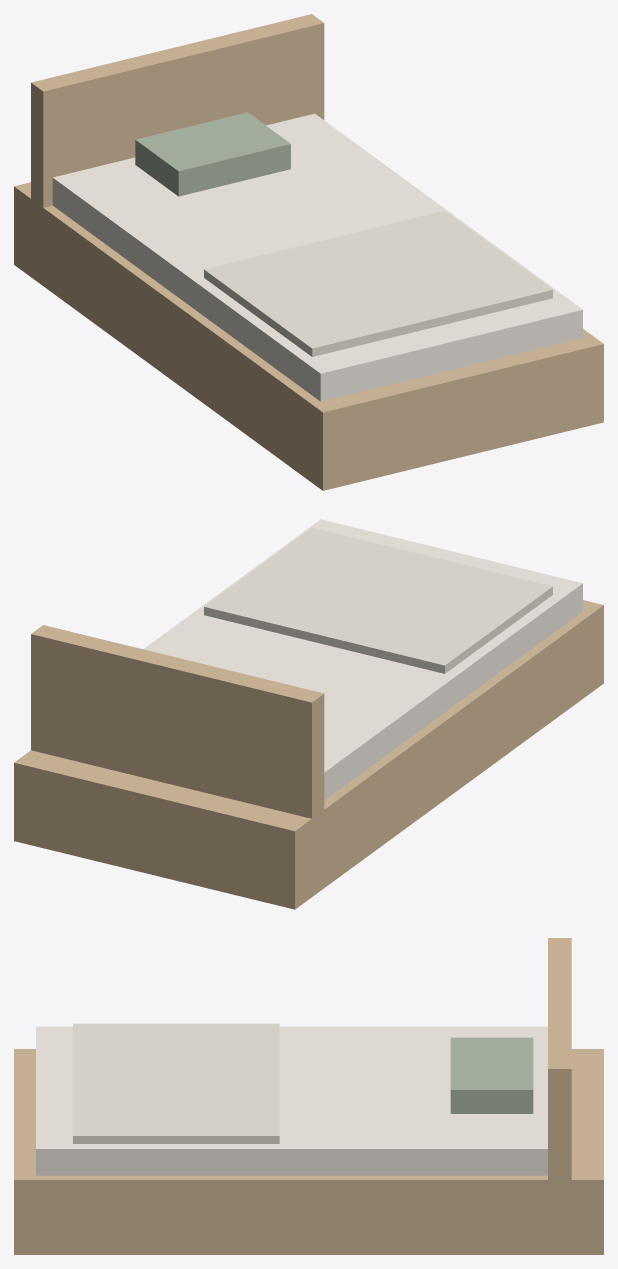
The model's file is bed.glb.
3 renders of one model, top to bottom at view 1: azimuth 30°, elevation 25°; view 2: azimuth 150°, elevation 25°; view 3: azimuth 270°, elevation 25°, orthographic. The views are drawn at different scales.
Visible parts, largest first — view 1: root; view 2: root; view 3: root.
Part boxes in pixels (left/top/right/bottom): root: left=14, top=14, right=603, bottom=490; root: left=14, top=519, right=603, bottom=909; root: left=14, top=938, right=603, bottom=1254.
Size of the model in its own units: 1.05 by 0.695 by 2.
